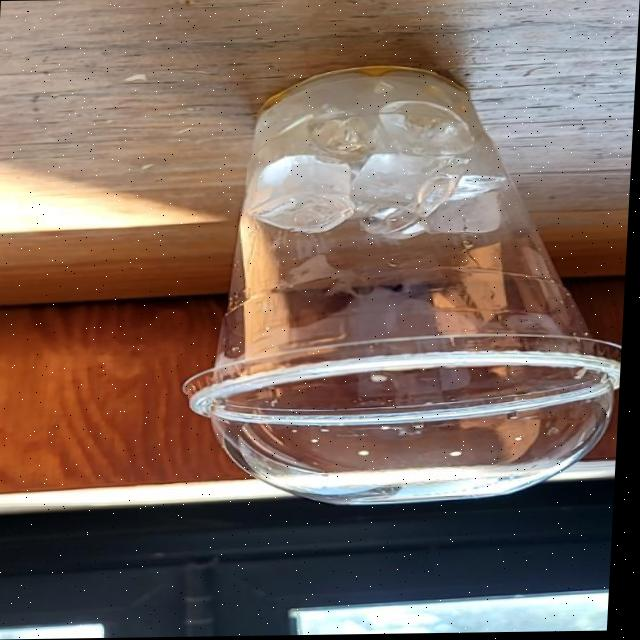cup: (217, 68, 625, 389)
